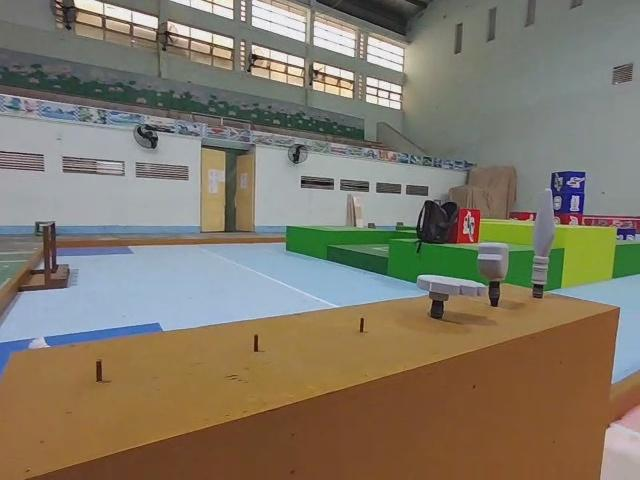Fist: (478, 239, 513, 308)
Hand: (416, 271, 485, 320)
Sph: (530, 190, 559, 303)
